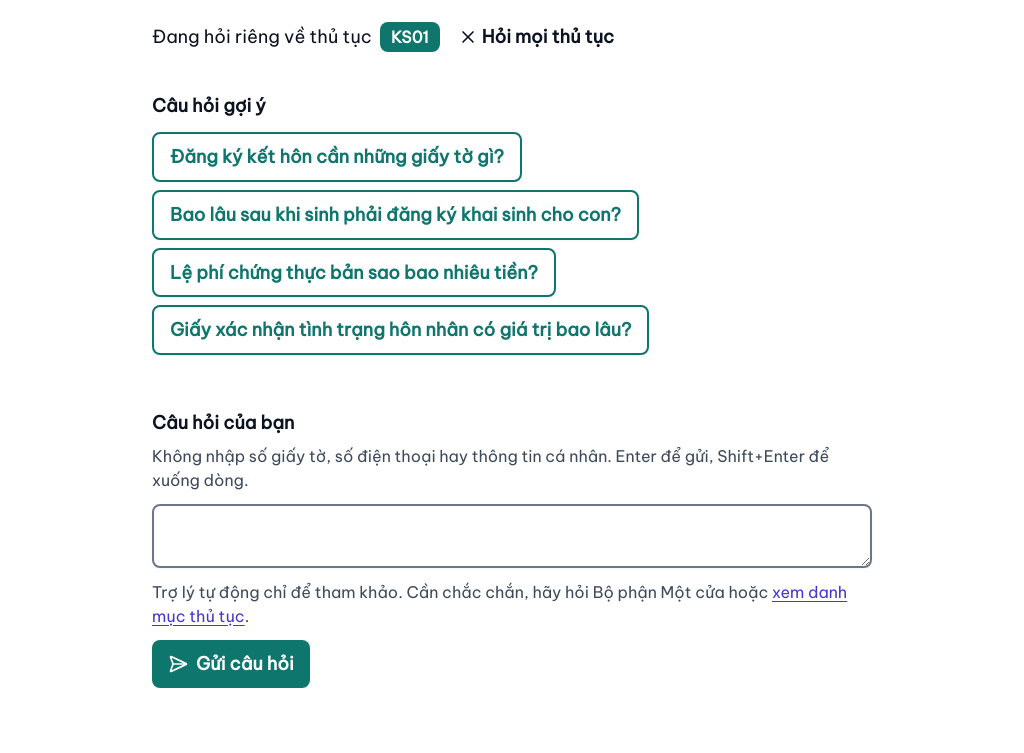
Test: trang hỏi đáp › gõ câu hỏi, Enter để gửi; hỏi riêng một thủ tục theo ?ma=
(page scrolled)
Check: the text "KS01" is shown, box [380,22,440,52]
Type "Lệ phí bao nhiêu?" into the text box labelled "Câu hỏi của bạn" at (512, 536), box [152,504,872,568]
Then press Enter
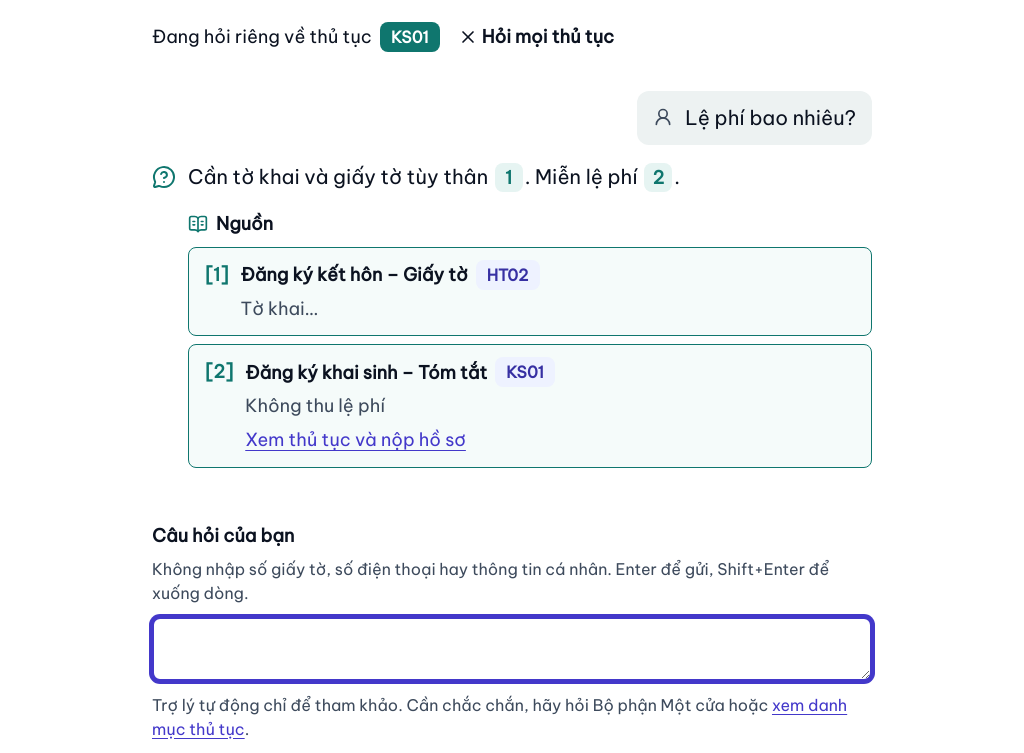
Check: the text box labelled "Câu hỏi của bạn" is empty, box [152,617,872,681]
Check: the element named "Câu hỏi: Lệ phí bao nhiêu?" is shown, box [152,91,872,468]
